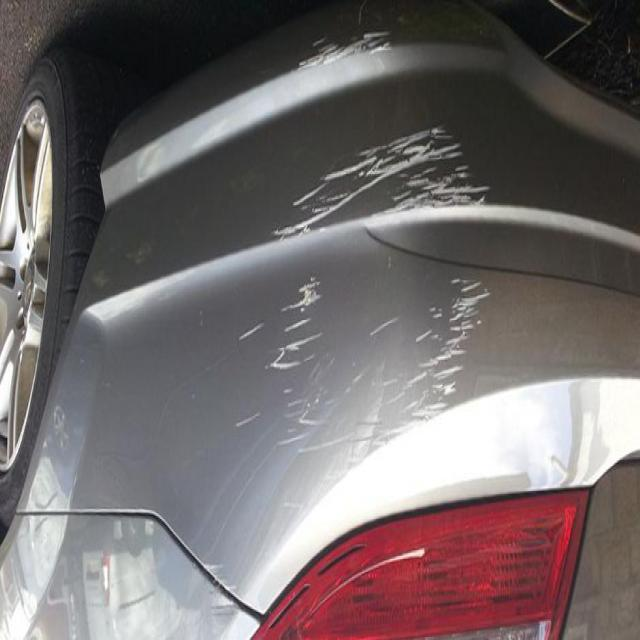scratch: (230, 87, 503, 543)
